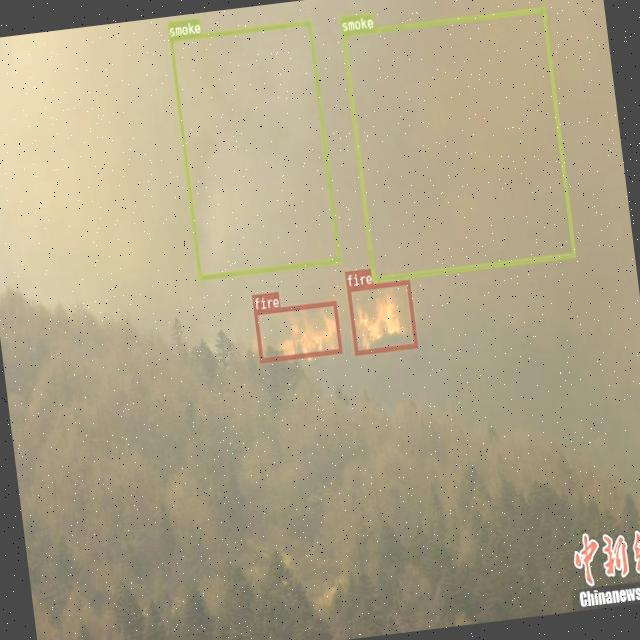fire: (252, 299, 342, 362), (346, 279, 417, 354)
smoke: (341, 6, 575, 281), (168, 19, 340, 279)
